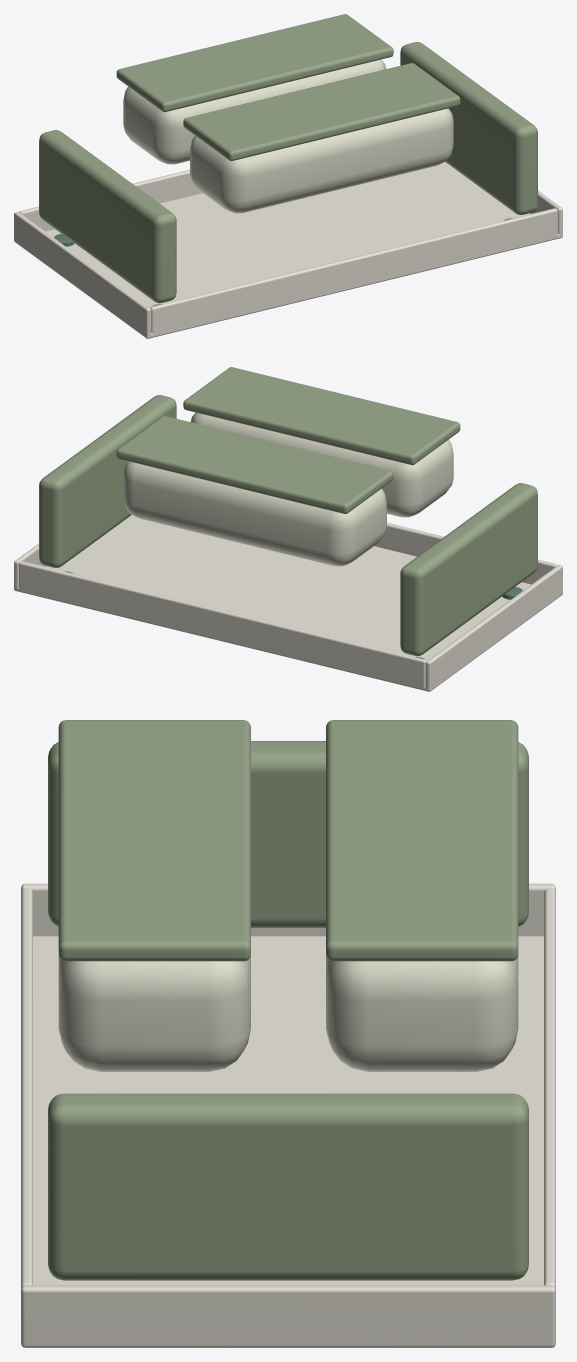
The model's file is sponge-dock.glb.
3 renders of one model, top to bottom at view 1: azimuth 30°, elevation 25°; view 2: azimuth 150°, elevation 25°; view 3: azimuth 270°, elevation 25°, orthographic. The views are drawn at different scales.
Visible parts, largest first — view 1: Drip tray floor, Absorbent sponge, Elevated dock support, Scrub face.001, Scrub face, Drip tray front, Elevated dock support.001, Absorbent sponge.001, Drip tray left, Drip tray back, Drip tray right; view 2: Drip tray floor, Absorbent sponge.001, Elevated dock support, Scrub face, Scrub face.001, Drip tray back, Elevated dock support.001, Absorbent sponge, Drip tray left, Drip tray front, Drip tray right; view 3: Elevated dock support.001, Scrub face, Scrub face.001, Drip tray floor, Drip tray right, Absorbent sponge, Absorbent sponge.001, Elevated dock support, Drip tray back, Drip tray front, Drip tray left.
Boxes of the visible parts, <box> form: Drip tray floor: <box>45,162,562,338</box>; Absorbent sponge: <box>190,108,453,213</box>; Elevated dock support: <box>39,130,176,303</box>; Scrub face.001: <box>116,14,393,112</box>; Scrub face: <box>183,63,460,160</box>; Drip tray front: <box>150,208,557,337</box>; Elevated dock support.001: <box>400,42,537,214</box>; Absorbent sponge.001: <box>123,59,386,164</box>; Drip tray left: <box>14,211,151,338</box>; Drip tray back: <box>19,169,202,231</box>; Drip tray right: <box>530,190,562,238</box>; Drip tray floor: <box>14,515,562,691</box>; Absorbent sponge.001: <box>123,461,386,566</box>; Elevated dock support: <box>400,483,537,656</box>; Scrub face: <box>183,367,460,465</box>; Scrub face.001: <box>116,416,393,513</box>; Drip tray back: <box>19,561,426,690</box>; Elevated dock support.001: <box>39,395,176,567</box>; Absorbent sponge: <box>190,412,453,517</box>; Drip tray left: <box>425,564,562,691</box>; Drip tray front: <box>374,522,557,584</box>; Drip tray right: <box>14,543,46,591</box>; Elevated dock support.001: <box>48,1093,528,1280</box>; Scrub face: <box>58,720,250,961</box>; Scrub face.001: <box>326,720,518,961</box>; Drip tray floor: <box>21,936,555,1347</box>; Drip tray right: <box>21,1285,555,1346</box>; Absorbent sponge: <box>58,955,250,1071</box>; Absorbent sponge.001: <box>326,955,518,1071</box>; Elevated dock support: <box>48,741,528,927</box>; Drip tray back: <box>544,888,555,1288</box>; Drip tray front: <box>21,888,32,1288</box>; Drip tray left: <box>21,883,555,936</box>.
Bounding box in the file's own units: 0.18 × 0.065 × 0.1.
